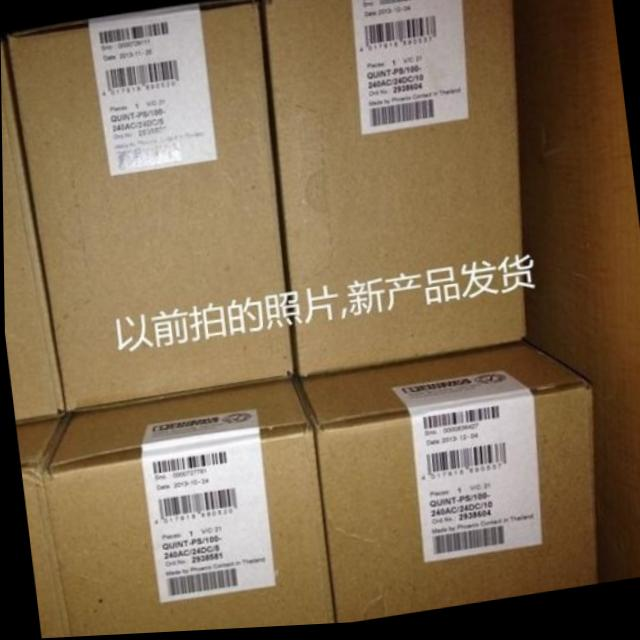box: (4, 3, 293, 418), (262, 0, 524, 381), (299, 347, 596, 627), (40, 380, 331, 637), (1, 44, 63, 423), (14, 418, 70, 639)
